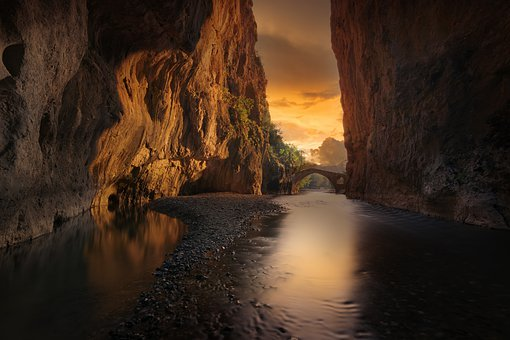lake: (13, 186, 501, 340)
stone: (5, 2, 278, 197), (331, 2, 510, 206)
